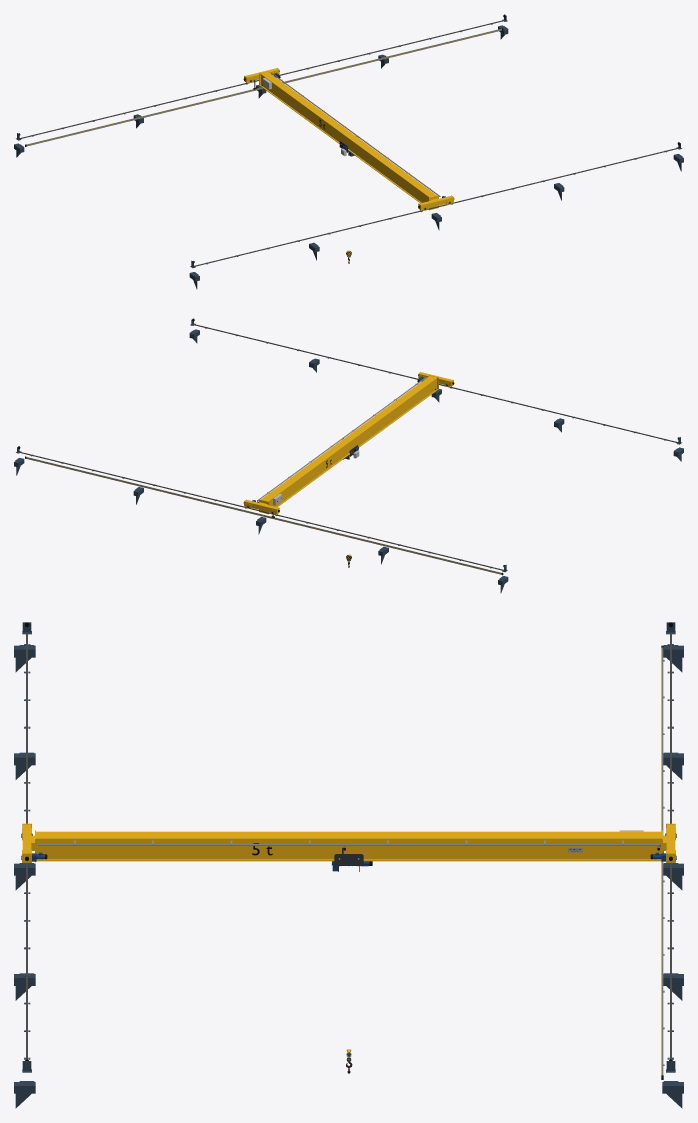
The model's file is hallenkran.glb.
3 renders of one model, top to bottom at view 1: azimuth 30°, elevation 25°; view 2: azimuth 150°, elevation 25°; view 3: azimuth 270°, elevation 25°, orthographic. The views are drawn at different scales.
Visible parts, largest first — view 1: Bruecke, Kranbahn; view 2: Bruecke, Kranbahn; view 3: Bruecke, Kranbahn.
Part boxes in pixels (x1,y1,x2,y2): Bruecke: (243, 68, 454, 210); Kranbahn: (14, 14, 683, 289); Bruecke: (243, 372, 454, 517); Kranbahn: (14, 318, 683, 593); Bruecke: (21, 823, 676, 862); Kranbahn: (14, 622, 683, 1108).
Size of the model in its own units: 23.99 by 6.04 by 15.4.
